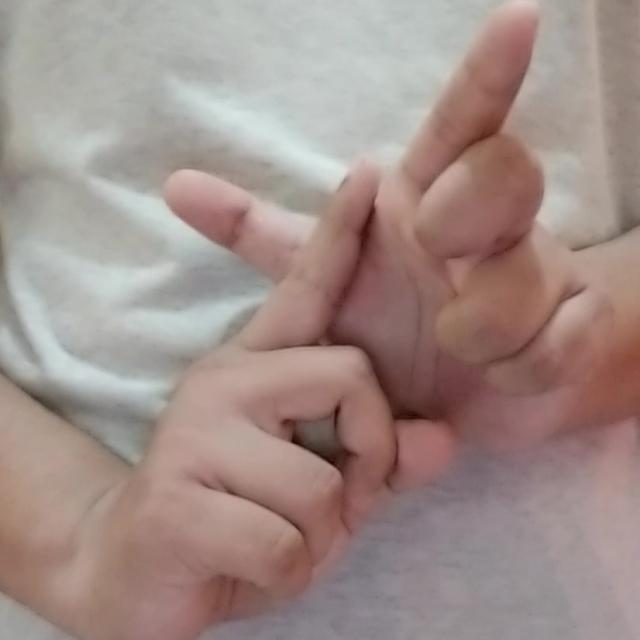Y: (134, 0, 626, 640)
